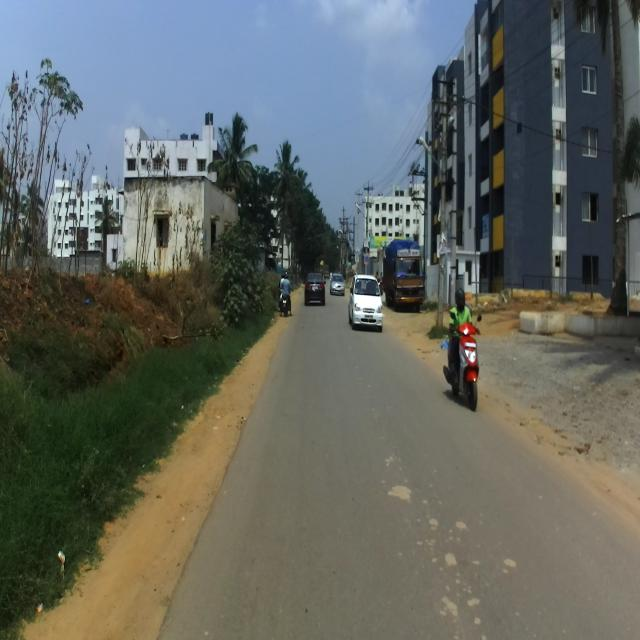car ahead at: (347, 269, 384, 339)
motorcycle ahead at: (445, 289, 486, 411)
